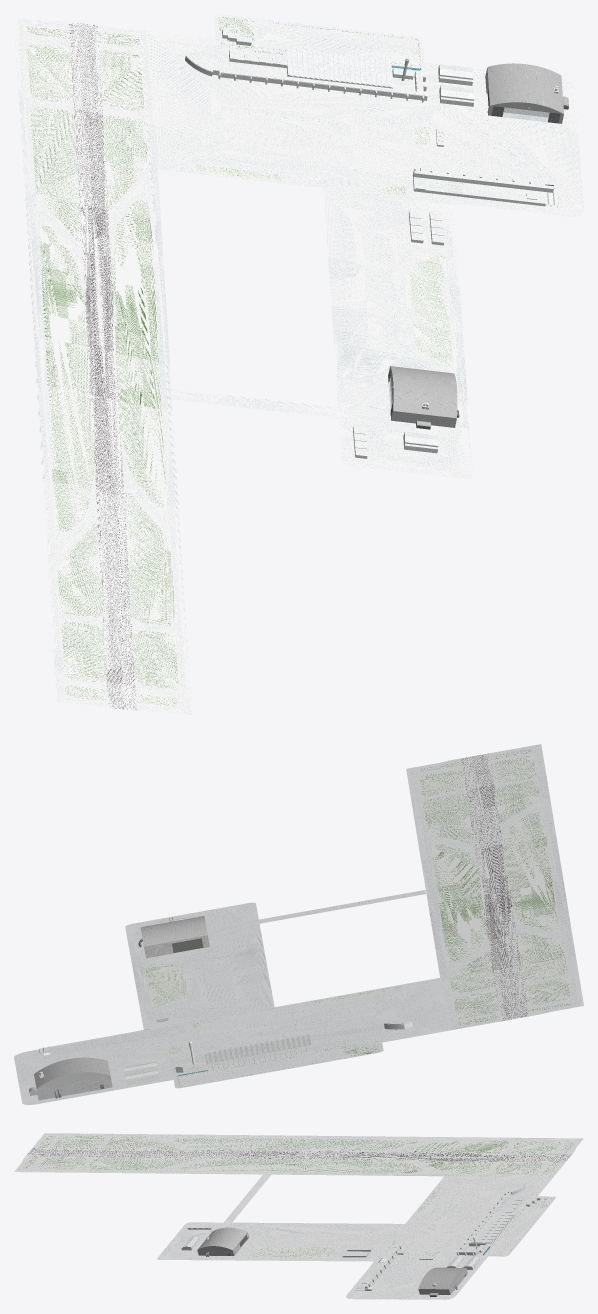
File: VHXX.glb
3 views of the same model, one above another, from view 1: azimuth 30°, elevation 25°; view 2: azimuth 210°, elevation 25°; view 3: azimuth 270°, elevation 25° (orthographic). The views are drawn at different scales.
Parts seen in each view (by area): view 1: ID2066-6, ID2066-7, ID219-25, ID219-25.001, ID219-13.001, ID219-13, ID325-3, ID219-0.001, ID219-0, ID2066-15, ID219-16, ID219-16.001 (+28 smaller); view 2: ID2066-6, ID2066-7, ID325-3, ID219-25.001, ID219-25, ID219-13.001, ID219-13, ID219-0, ID219-0.001, ID2066-15, ID219-16.001, ID219-16 (+26 smaller); view 3: ID2066-6, ID2066-7, ID219-25.001, ID219-25, ID219-13.001, ID219-13, ID325-3, ID219-0, ID219-0.001, ID2066-15, ID219-16.001, ID219-16 (+26 smaller).
Boxes of the visible parts, x1,y1,x2,y2 form: ID2066-6: (148, 31, 583, 479); ID2066-7: (148, 32, 583, 478); ID219-25: (97, 25, 191, 715); ID219-25.001: (14, 17, 107, 707); ID219-13.001: (39, 225, 94, 532); ID219-13: (111, 200, 166, 507); ID325-3: (164, 14, 427, 102); ID219-0.001: (69, 22, 123, 709); ID219-0: (82, 23, 136, 710); ID2066-15: (221, 103, 353, 164); ID219-16: (124, 491, 175, 625); ID219-16.001: (30, 107, 81, 241); ID2066-6: (14, 890, 449, 1104); ID2066-7: (15, 890, 448, 1104); ID325-3: (170, 1022, 433, 1088); ID219-25.001: (490, 744, 583, 1016); ID219-25: (406, 758, 500, 1030); ID219-13.001: (503, 812, 558, 930); ID219-13: (431, 843, 486, 962); ID219-0: (461, 756, 515, 1021); ID219-0.001: (474, 753, 528, 1018); ID2066-15: (244, 1001, 376, 1040); ID219-16.001: (516, 931, 567, 980); ID219-16: (422, 794, 473, 843); ID2066-6: (157, 1174, 552, 1299); ID2066-7: (158, 1175, 550, 1299); ID219-25.001: (33, 1133, 583, 1154); ID219-25: (14, 1156, 564, 1177); ID219-13.001: (175, 1137, 417, 1151); ID219-13: (180, 1158, 422, 1173); ID325-3: (456, 1181, 555, 1256); ID219-0: (26, 1152, 568, 1162); ID219-0.001: (29, 1148, 571, 1157); ID2066-15: (420, 1196, 485, 1233); ID219-16.001: (399, 1140, 510, 1153); ID219-16: (87, 1157, 198, 1170).
Size of the model in its own units: 1918 by 475 by 1957.
44 materials, 23 textured.
